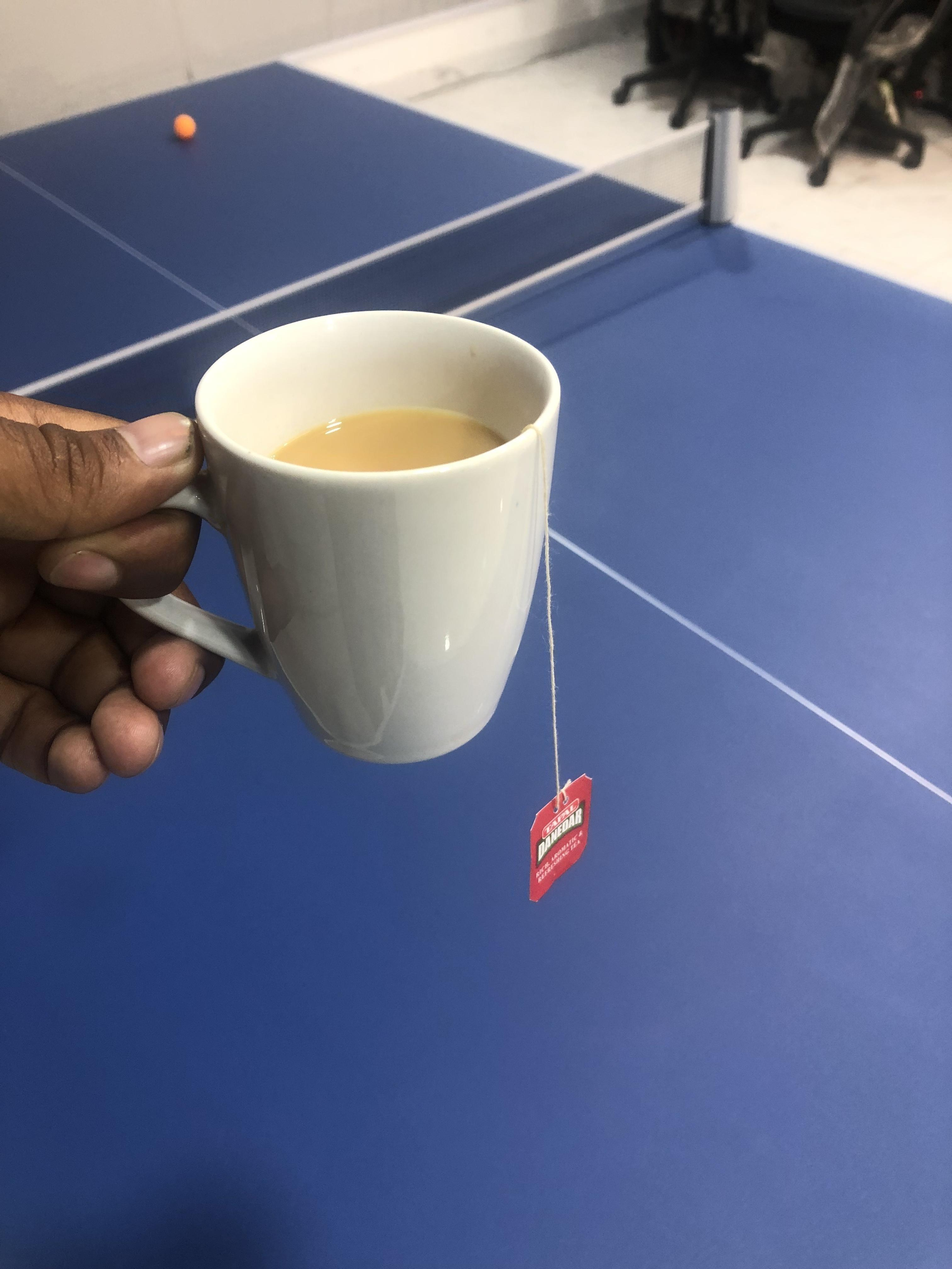cup-handle: (96, 291, 565, 786)
